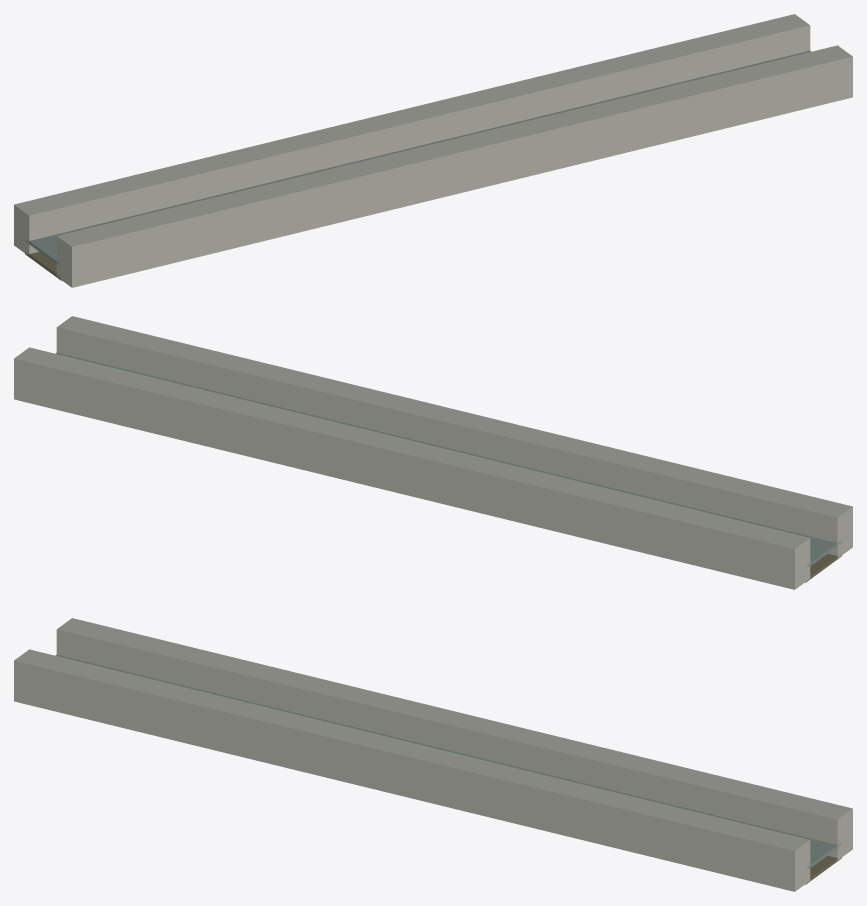
Rendered from SM_Acequia_v0_Agua_LOD1.fbx.
The picture shows the model from 3 angles, top to bottom: view 1: azimuth 30°, elevation 25°; view 2: azimuth 150°, elevation 25°; view 3: azimuth 330°, elevation 25°; orthographic projection.
Visible parts, largest first — view 1: SM_huerta_nules_v15_LOD1; view 2: SM_huerta_nules_v15_LOD1; view 3: SM_huerta_nules_v15_LOD1.
Part boxes in pixels (x1,y1,x2,y2): SM_huerta_nules_v15_LOD1: (14,14,852,287); SM_huerta_nules_v15_LOD1: (14,316,852,589); SM_huerta_nules_v15_LOD1: (14,618,852,891).
Size of the model in its own units: 10 by 0.51 by 1.29.
